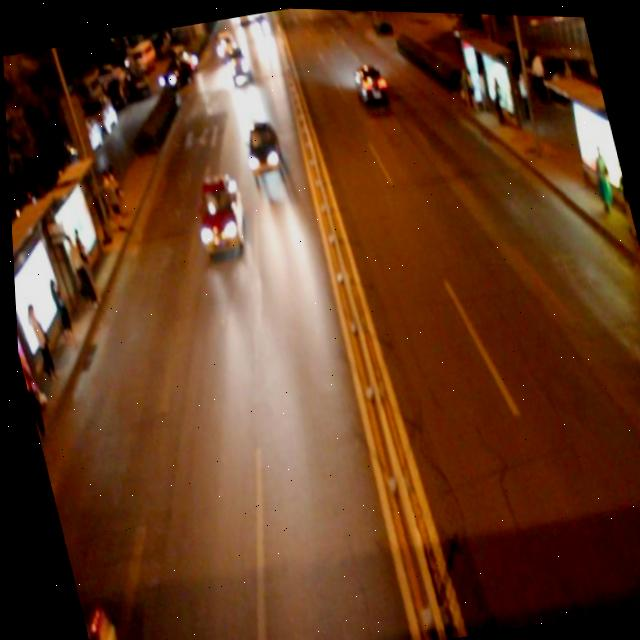car: (184, 165, 251, 260), (236, 114, 287, 181), (72, 593, 122, 640), (347, 58, 389, 107), (225, 44, 251, 77)
